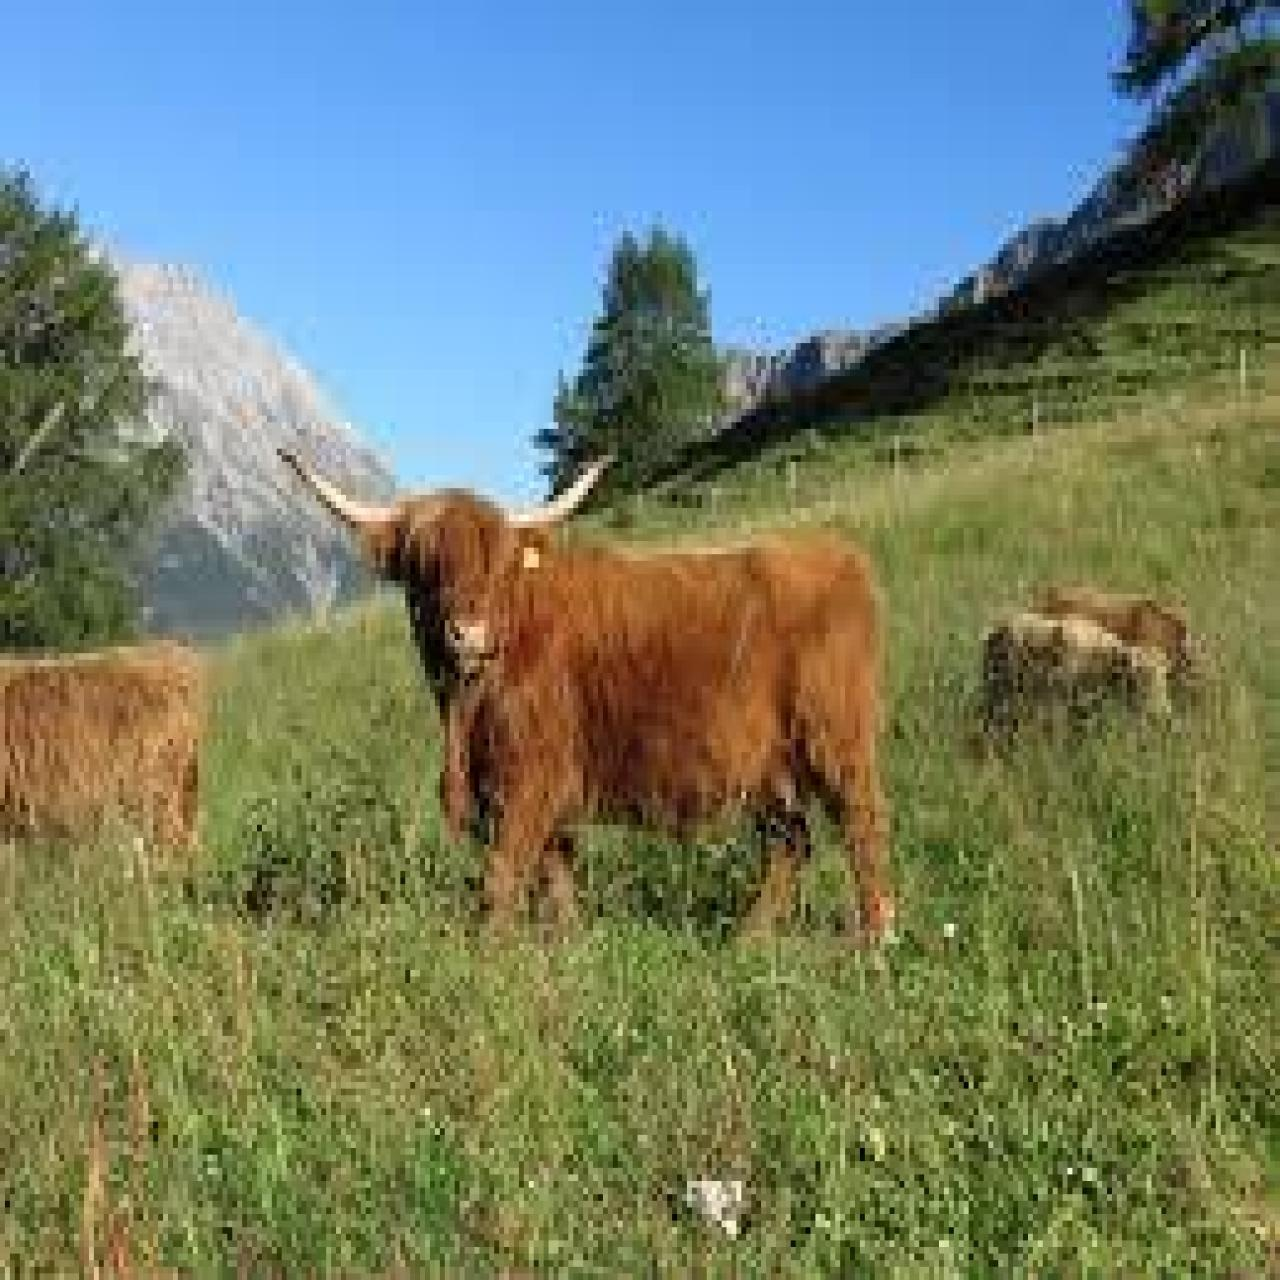cow: (370, 492, 899, 940), (0, 644, 207, 893), (983, 611, 1171, 742), (1030, 584, 1204, 696)
